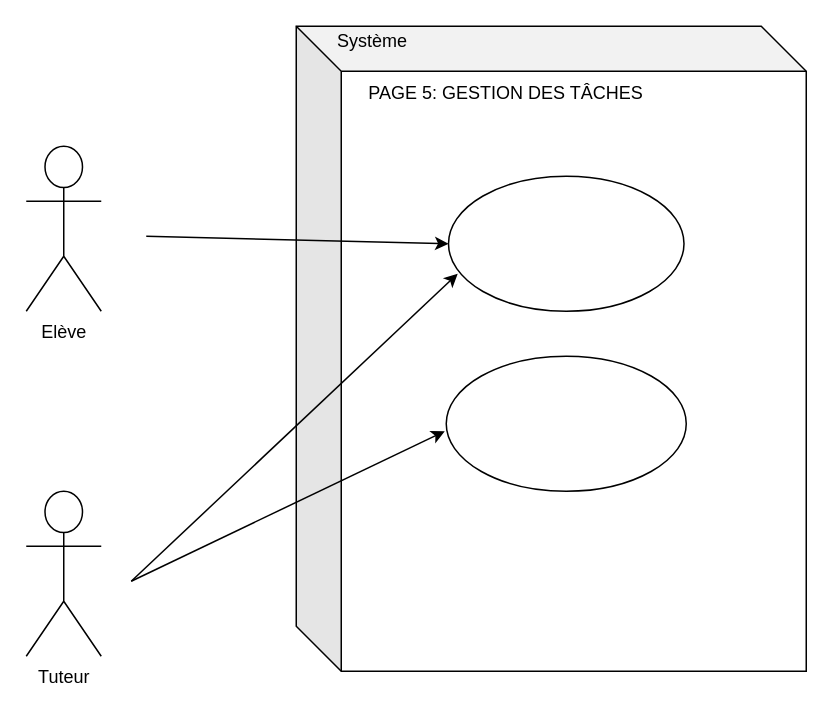
This 833x714 diagram has some shape labels left out. Here are the shapes that lost their labels. From the top down, the centre of each, then its label:
At (565,243): "CRÉATION DE TÂCHES POUR SOI-MÊME".
At (565,423): "CRÉATION DE TÂCHES POUR UN AUTRE UTILISATEUR".
